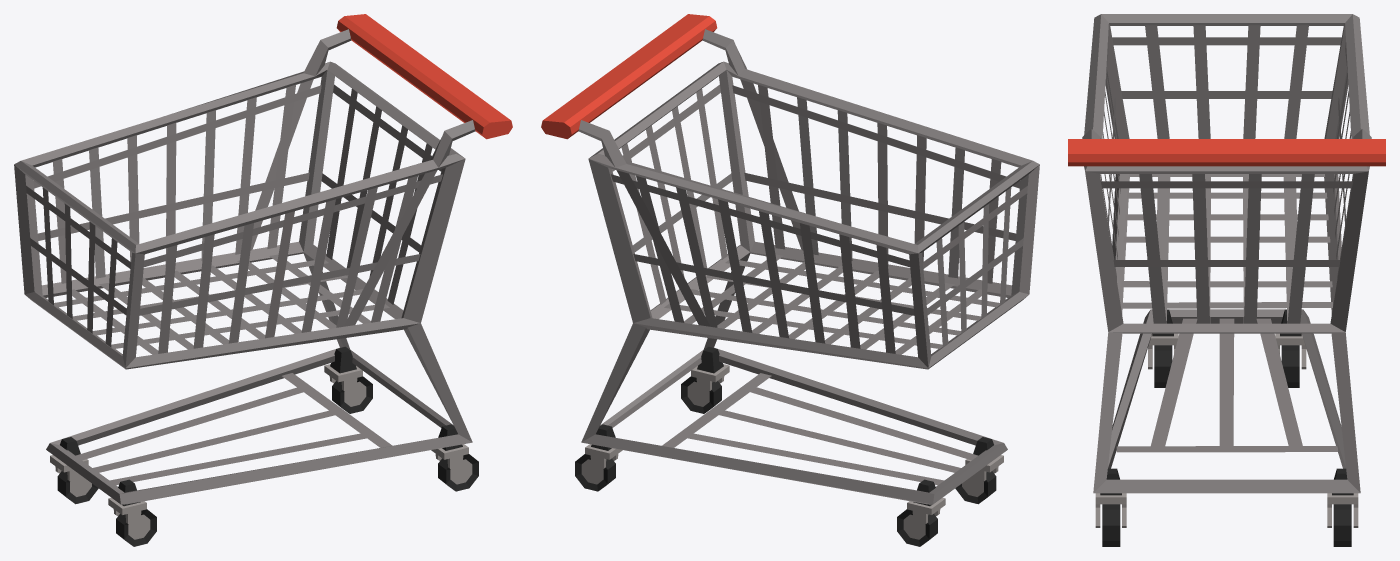
File: apocalypse-shopping-trolley.glb
3 views of the same model, side by side, from view 1: azimuth 30°, elevation 25°; view 2: azimuth 150°, elevation 25°; view 3: azimuth 270°, elevation 25° (orthographic). The views are drawn at different scales.
Parts seen in each view (by area): view 1: shopping-trolley; view 2: shopping-trolley; view 3: shopping-trolley.
Boxes of the visible parts, <box> form: shopping-trolley: <box>14,14,512,546</box>; shopping-trolley: <box>541,14,1039,546</box>; shopping-trolley: <box>1068,14,1385,546</box>.
Size of the model in its own units: 1.12 by 1.1 by 0.7741.
